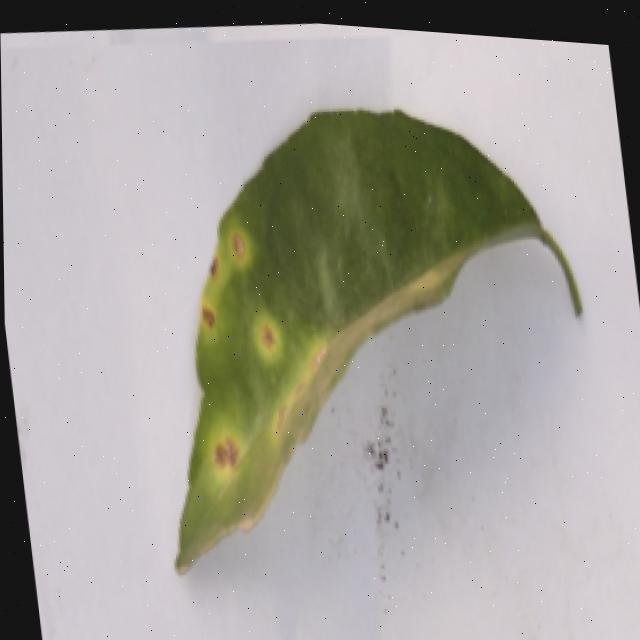canker: (179, 113, 579, 568), (260, 316, 351, 446), (177, 207, 267, 336), (195, 416, 261, 482), (241, 305, 288, 358)
